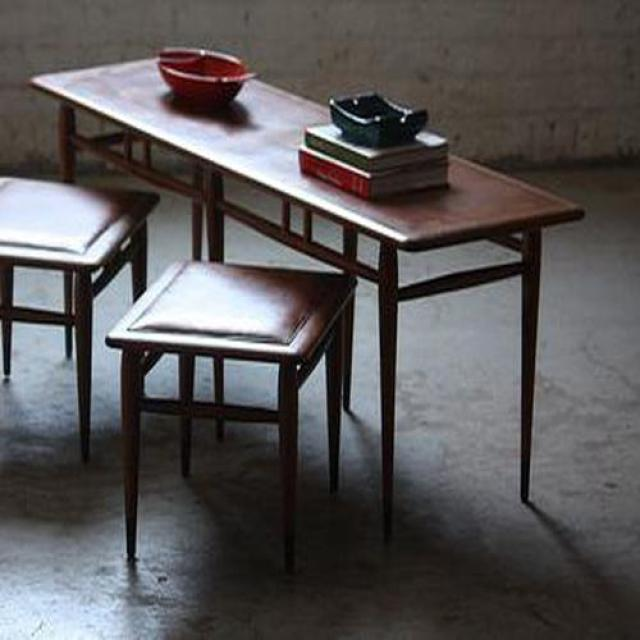table: (31, 58, 586, 508)
